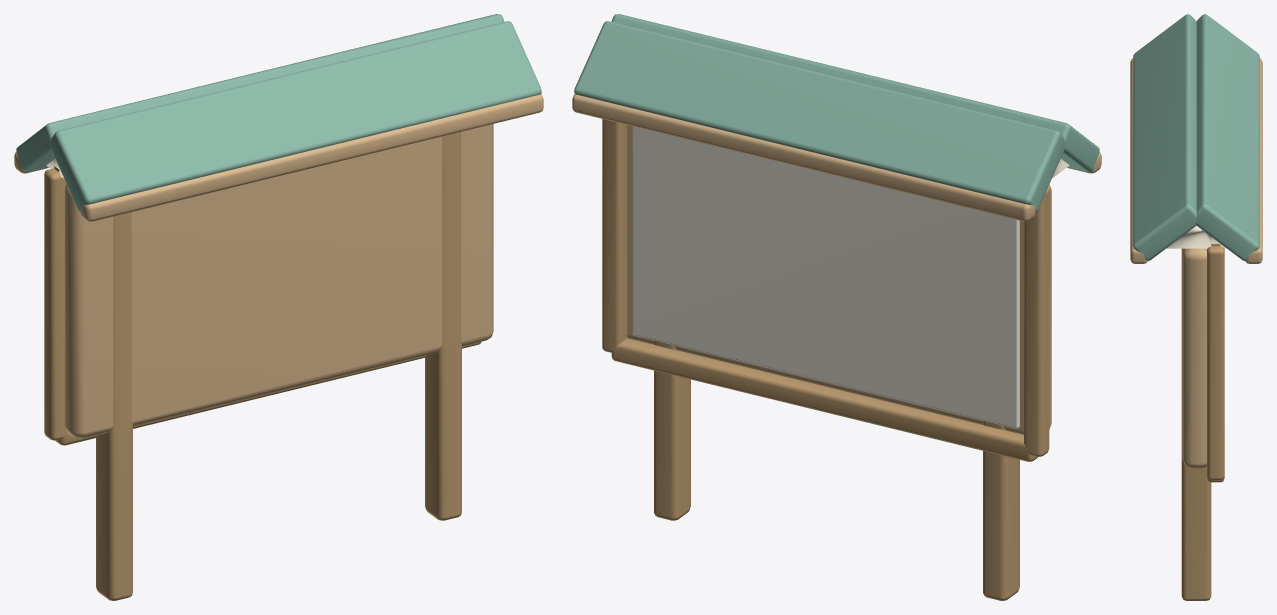
File: map.glb
3 renders of one model, left to right at view 1: azimuth 30°, elevation 25°; view 2: azimuth 150°, elevation 25°; view 3: azimuth 270°, elevation 25°, orthographic. The views are drawn at different scales.
Size of the model in its own units: 2.6 by 2.62 by 0.7499.
